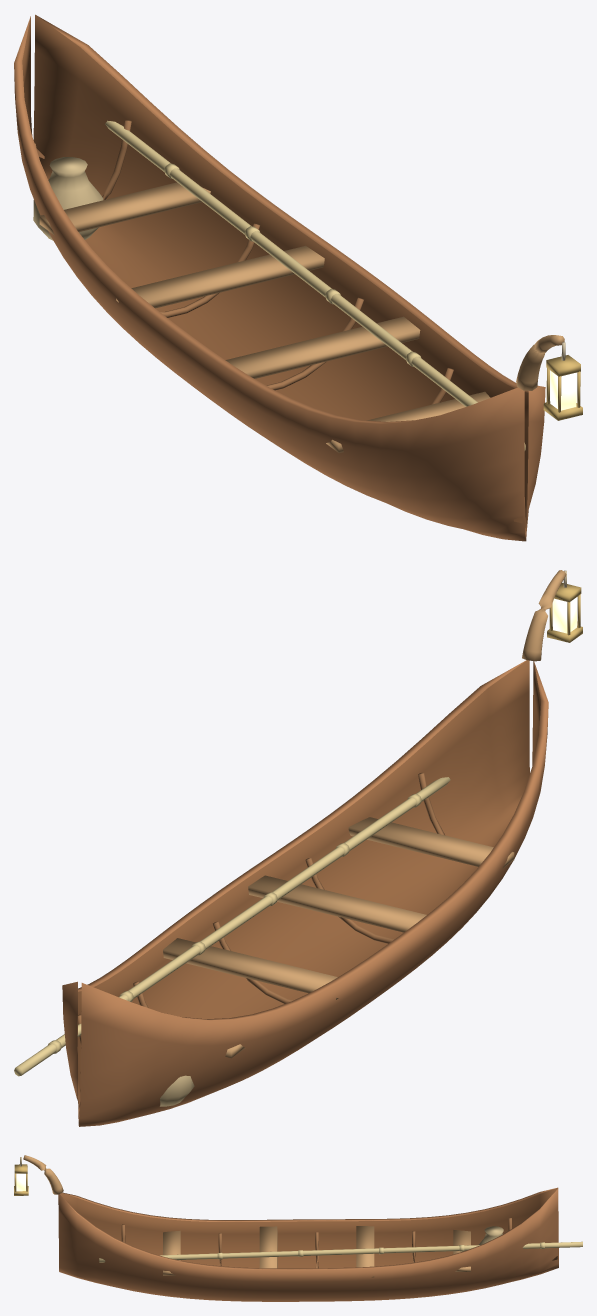
The model's file is mali-prop-fisher-boat.glb.
3 views of the same model, one above another, from view 1: azimuth 30°, elevation 25°; view 2: azimuth 150°, elevation 25°; view 3: azimuth 270°, elevation 25° (orthographic). The views are drawn at different scales.
Parts seen in each view (by area): view 1: hull, pole, thwart2, thwart1, thwart3, basket, thwart0, stem, lantern glass; view 2: hull, pole, thwart1, thwart2, thwart0, stem, lantern glass; view 3: hull, pole, thwart1, thwart2, thwart0, stem, thwart3, basket.
Boxes of the visible parts, x1,y1,x2,y2 form: hull: (14, 14, 545, 541); pole: (105, 120, 525, 450); thwart2: (116, 245, 324, 308); thwart1: (225, 316, 420, 378); thwart3: (39, 182, 210, 235); basket: (33, 157, 103, 240); thwart0: (326, 391, 490, 452); stem: (516, 335, 564, 390); lantern glass: (550, 371, 576, 410); hull: (62, 660, 548, 1126); pole: (14, 777, 450, 1076); thwart1: (248, 875, 426, 932); thwart2: (163, 938, 338, 999); thwart0: (348, 817, 514, 868); stem: (522, 570, 566, 661); lantern glass: (553, 597, 577, 633); hull: (58, 1187, 558, 1301); pole: (99, 1241, 582, 1262); thwart1: (259, 1226, 277, 1268); thwart2: (356, 1226, 374, 1277); thwart0: (163, 1230, 180, 1275); stem: (23, 1155, 63, 1194); thwart3: (453, 1230, 470, 1271); basket: (478, 1226, 503, 1244).
Size of the model in its own units: 0.1499 by 0.1925 by 0.7057.
